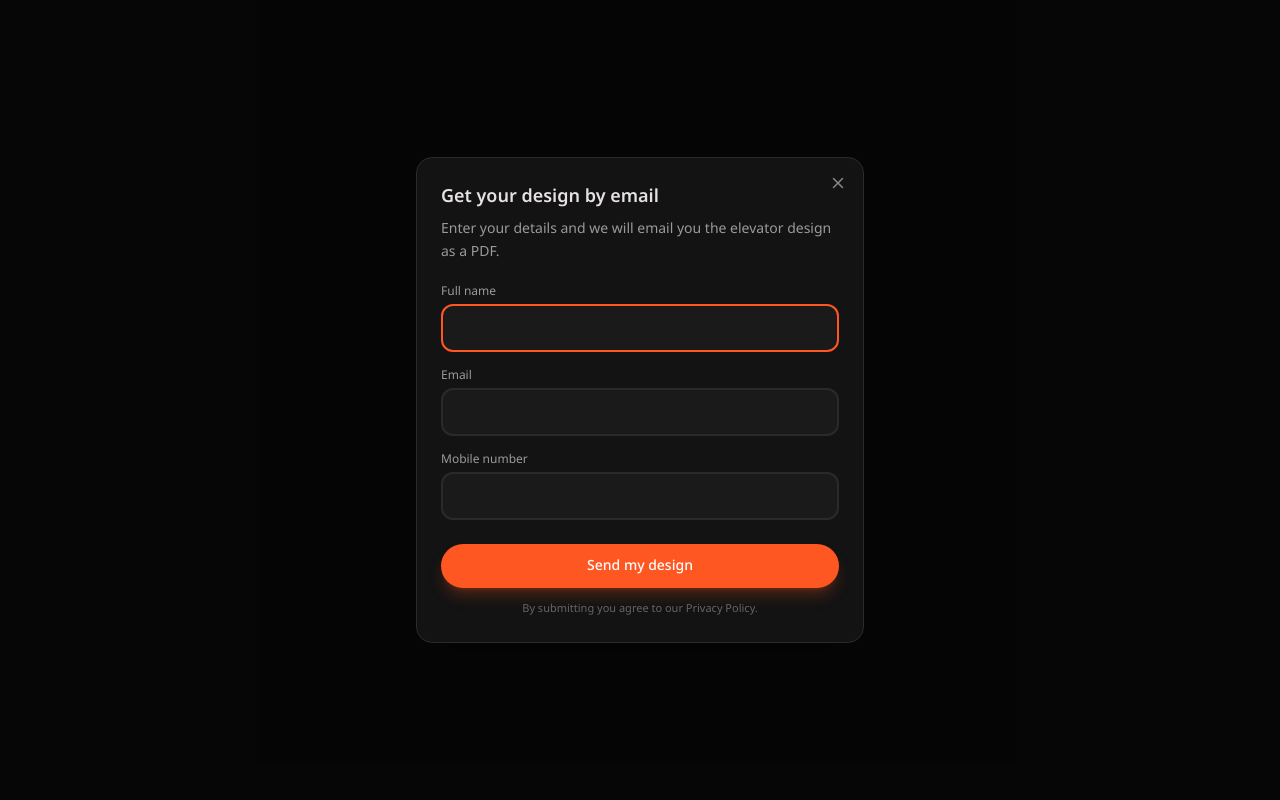
it: LeadCaptureModal › does not submit invalid details, and shows the errors
This screenshot has width=1280, height=800.
Click the button "Send my design". click: click(640, 566)
box: [441, 544, 839, 588]
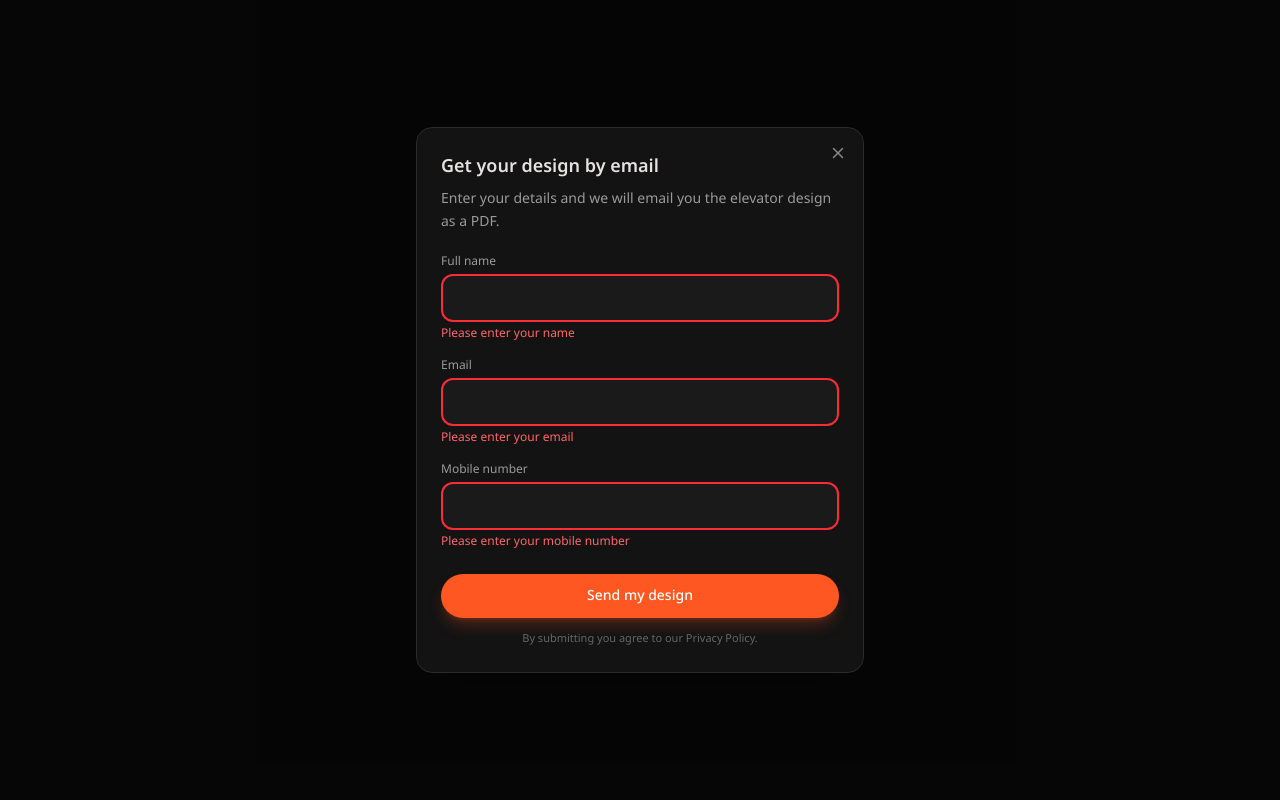
Expected: the message "Please enter your name" is shown, [441, 321, 575, 346]
